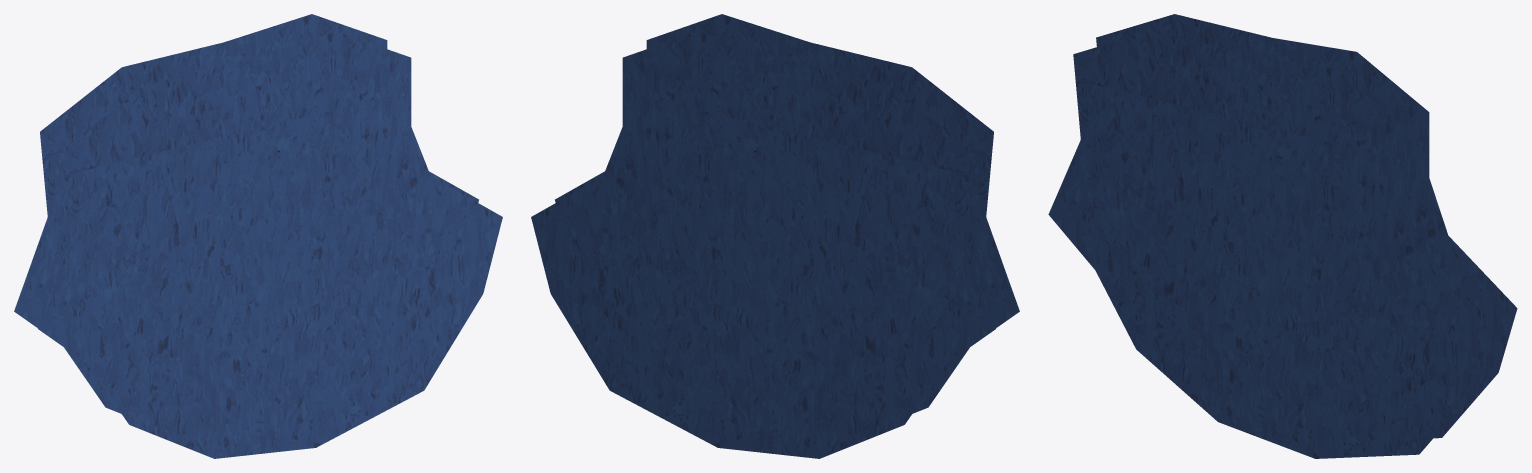
The model's file is floor_74.obj.
The picture shows the model from 3 angles, left to right: view 1: azimuth 30°, elevation 25°; view 2: azimuth 150°, elevation 25°; view 3: azimuth 330°, elevation 25°; orthographic projection. The views are drawn at different scales.
Parts seen in each view (by area): view 1: floor_74; view 2: floor_74; view 3: floor_74.
Boxes of the visible parts, box(x1,y1,x2,y2) form: floor_74: box(14, 14, 502, 458); floor_74: box(531, 14, 1019, 458); floor_74: box(1048, 14, 1517, 458).
Bounding box in the file's own units: 1.13 × 0.9562 × 0.1.
1 material, 1 textured.
